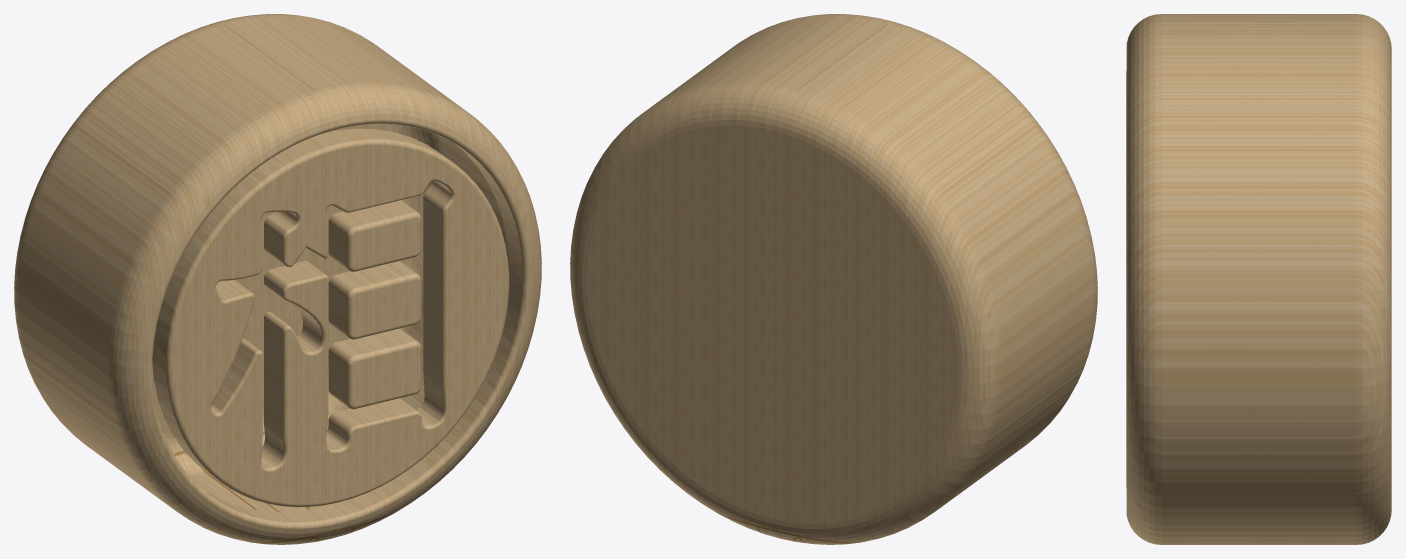
Rendered from h01_chess_red_elephant_wood.obj.
3 renders of one model, left to right at view 1: azimuth 30°, elevation 25°; view 2: azimuth 150°, elevation 25°; view 3: azimuth 270°, elevation 25°, orthographic. The views are drawn at different scales.
Size of the model in its own units: 0.03 by 0.03 by 0.015.
1 material, 1 textured.
